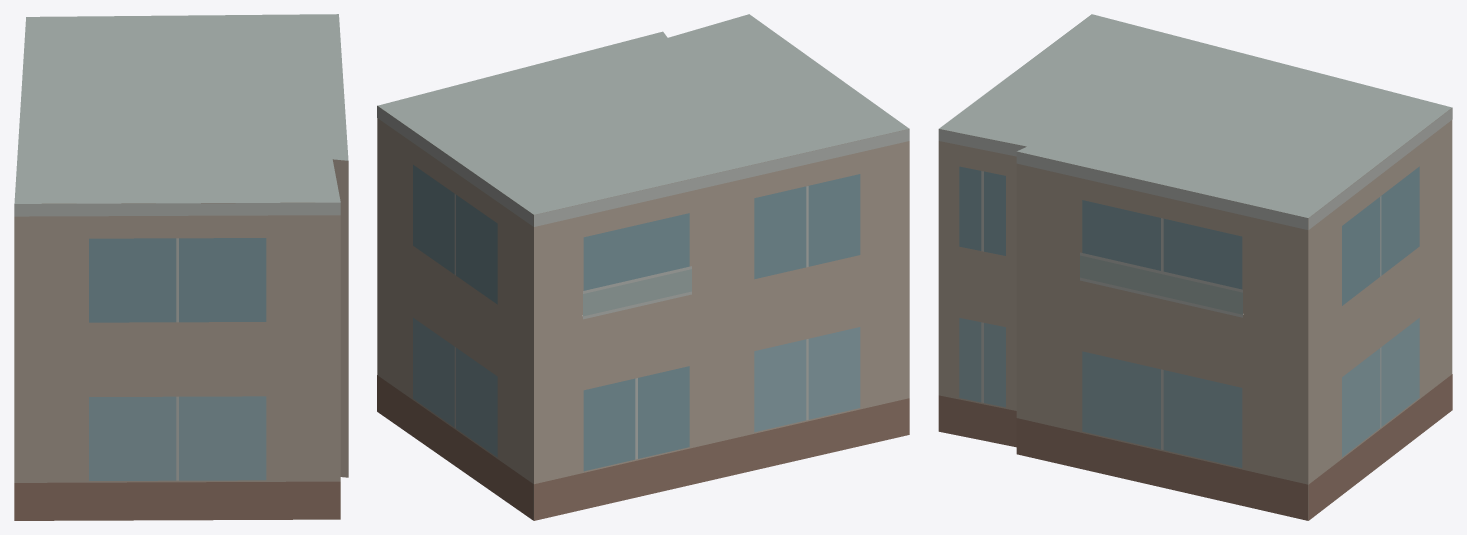
File: survey-upis-33001758.glb
3 renders of one model, left to right at view 1: azimuth 30°, elevation 25°; view 2: azimuth 150°, elevation 25°; view 3: azimuth 270°, elevation 25°, orthographic. The views are drawn at different scales.
Parts seen in each view (by area): view 1: survey-upis-33001758.tmp; view 2: survey-upis-33001758.tmp; view 3: survey-upis-33001758.tmp.
Part boxes in pixels (x1=…): survey-upis-33001758.tmp: x1=14, y1=14, x2=348, y2=520; survey-upis-33001758.tmp: x1=377, y1=14, x2=909, y2=520; survey-upis-33001758.tmp: x1=938, y1=14, x2=1452, y2=520.
Bounding box in the file's own units: 8.83 × 6.1 × 9.39.
